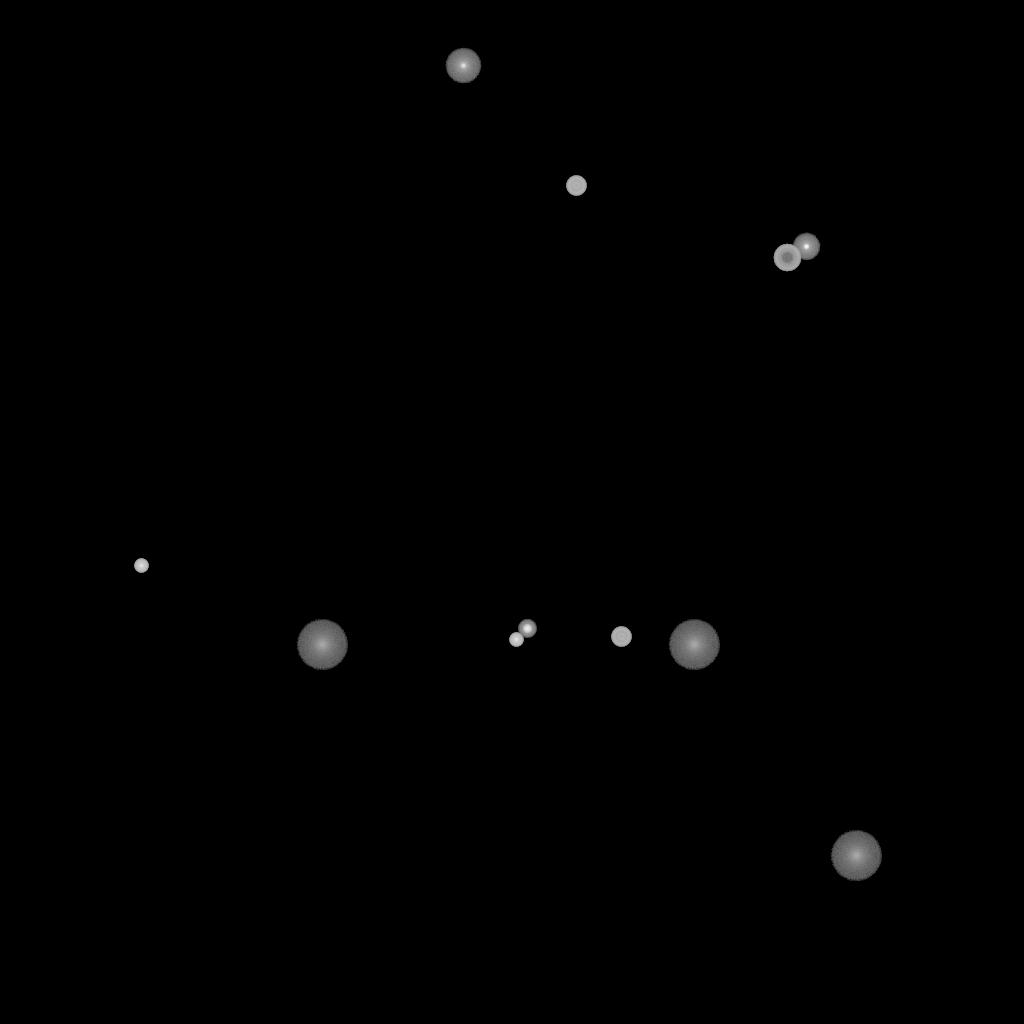depth:-10: (792, 233, 820, 261)
depth:-20: (518, 620, 536, 638)
depth:-30: (509, 633, 523, 647), (134, 559, 148, 573)
depth:-40: (566, 176, 586, 196), (611, 627, 631, 647)
depth:-50: (773, 244, 801, 272)
depth:0: (445, 48, 481, 84)
depth:20: (830, 831, 882, 881), (668, 620, 720, 670), (296, 620, 348, 670)
